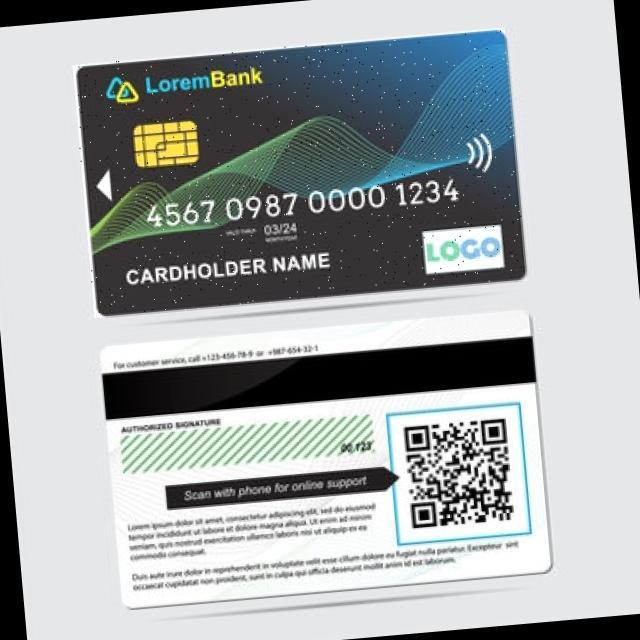payment_card: (99, 310, 553, 610), (75, 24, 528, 318)
